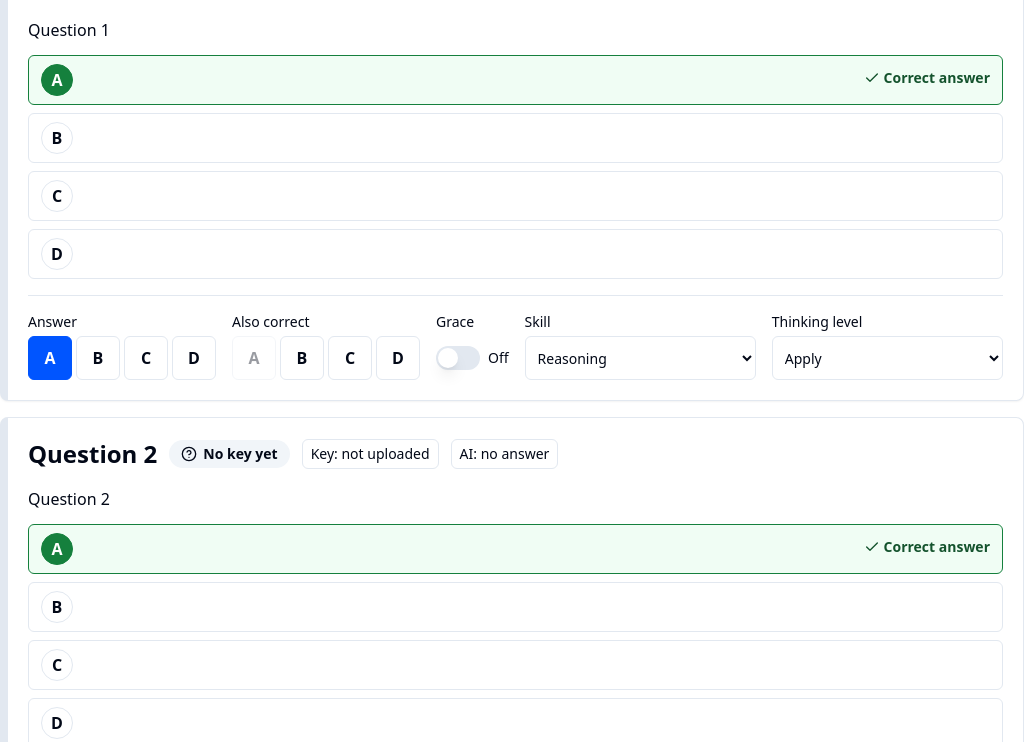
Test: PaperEditor › shows the count of unsaved changes
(page scrolled)
Click the switch named "Grace for question 1" at (458, 358), box [436,346,480,370]
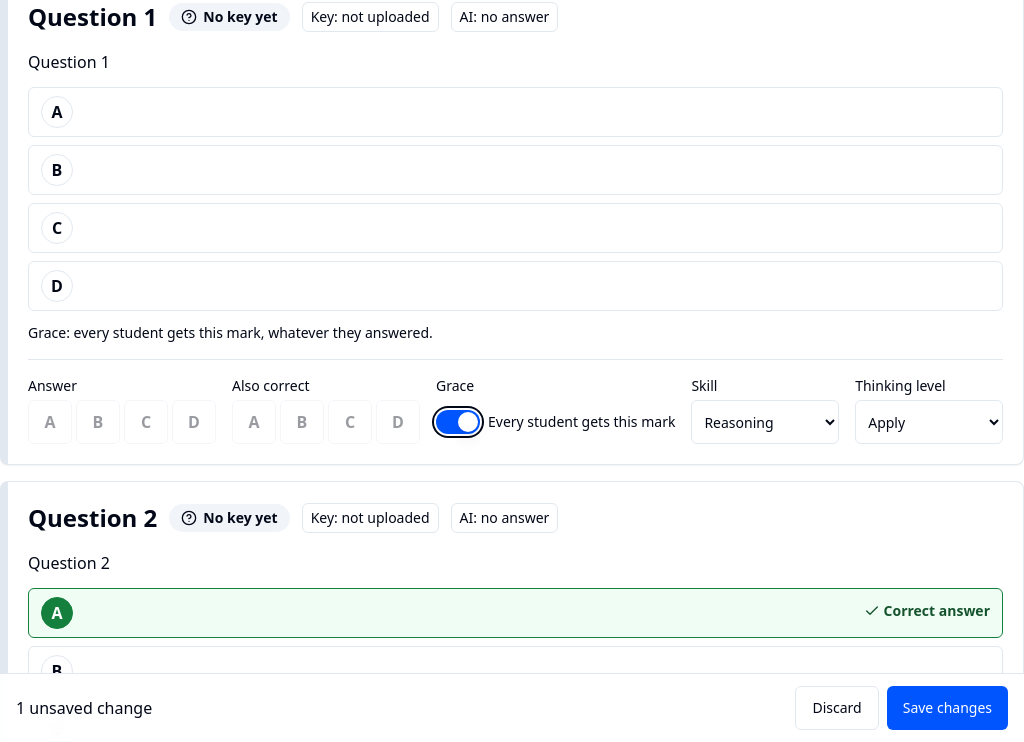
Result: the text "1 unsaved change" is shown at [16,696,152,720]
